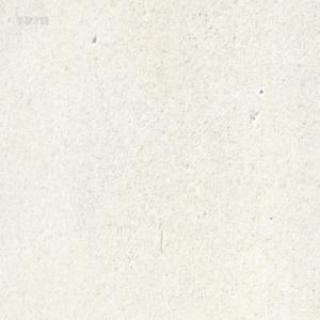Wrenchtrack_idkeyframe: (166, 0, 172, 4)
